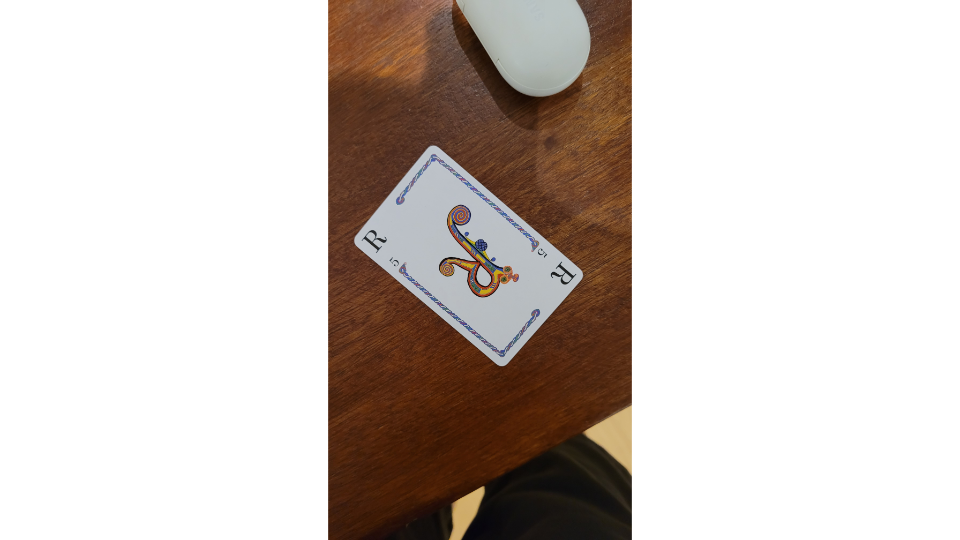R: (351, 143, 588, 372)
